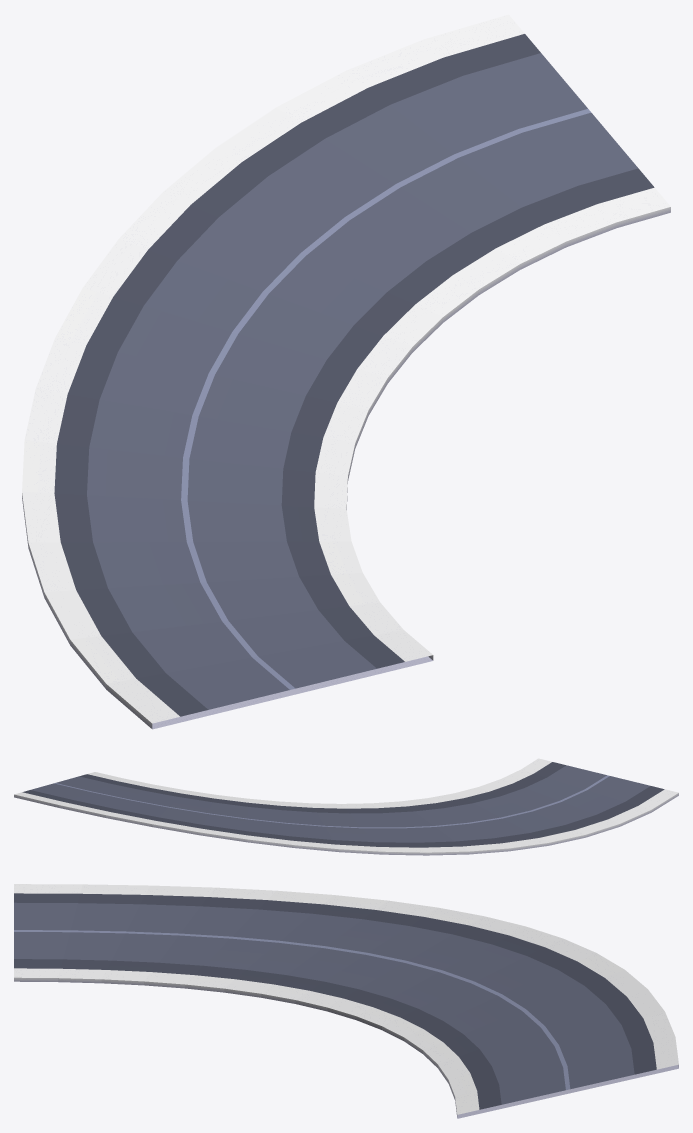
Rendered from road-Turn-Flat-HalfBankedRight-Up1-Right-Size3.glb.
The picture shows the model from 3 angles, top to bottom: view 1: azimuth 30°, elevation 25°; view 2: azimuth 150°, elevation 25°; view 3: azimuth 270°, elevation 25°; orthographic projection. The views are drawn at different scales.
Visible parts, largest first — view 1: road-Turn-Flat-HalfBankedRight-Up1-Right-Size3; view 2: road-Turn-Flat-HalfBankedRight-Up1-Right-Size3; view 3: road-Turn-Flat-HalfBankedRight-Up1-Right-Size3.
Boxes of the visible parts, x1,y1,x2,y2 form: road-Turn-Flat-HalfBankedRight-Up1-Right-Size3: (22, 14, 670, 729); road-Turn-Flat-HalfBankedRight-Up1-Right-Size3: (14, 758, 678, 855); road-Turn-Flat-HalfBankedRight-Up1-Right-Size3: (14, 884, 678, 1118).
Size of the model in its own units: 3 by 0.52 by 3.
Materials: 1 (1 with a texture image).
